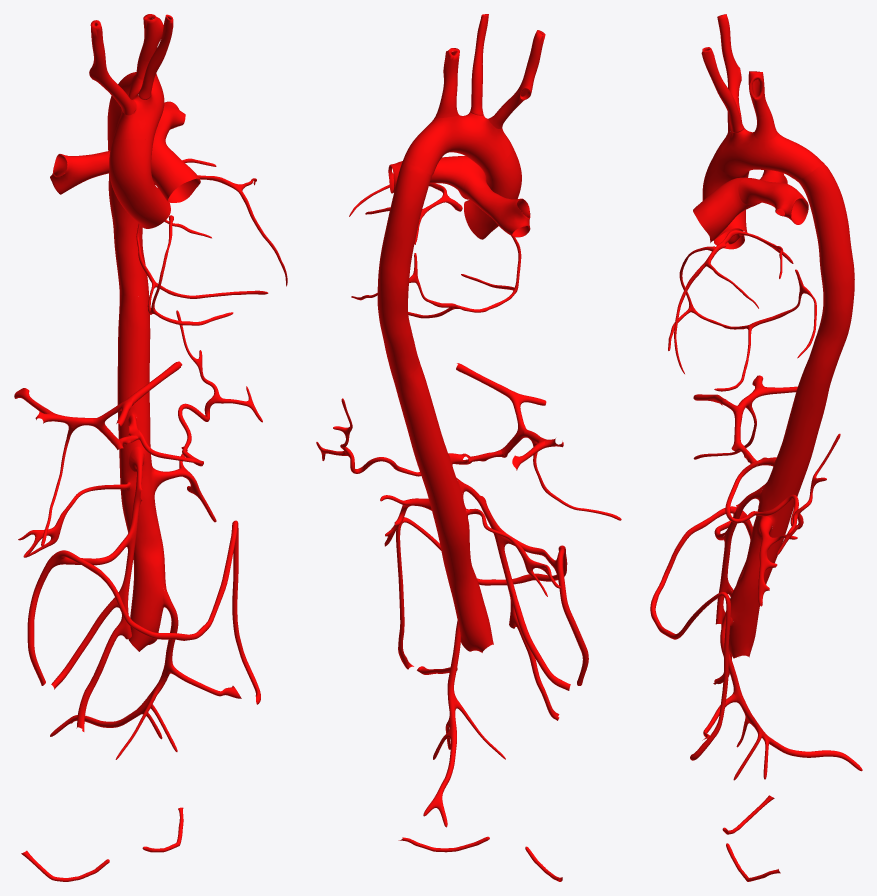
The model's file is female-arterial.glb.
The picture shows the model from 3 angles, left to right: view 1: azimuth 30°, elevation 25°; view 2: azimuth 150°, elevation 25°; view 3: azimuth 270°, elevation 25°; orthographic projection. The views are drawn at different scales.
Visible parts, largest first — view 1: VH_F_descending_aorta_b, VH_F_marginal_artery_of_Drummond, VH_F_ascending_aorta, VH_F_descending_aorta_a, VH_F_aortic_arch, VH_F_pulmonary_trunk, VH_F_splenic_artery, VH_F_pulmonary_artery_R, VH_F_superior_mesenteric_artery, VH_F_brachiocephalic_artery_b, VH_F_right_renal_artery, VH_F_inferior_mesenteric_artery (+10 smaller); view 2: VH_F_descending_aorta_b, VH_F_descending_aorta_a, VH_F_aortic_arch, VH_F_marginal_artery_of_Drummond, VH_F_pulmonary_artery_R, VH_F_ascending_aorta, VH_F_superior_mesenteric_artery, VH_F_brachiocephalic_artery_b, VH_F_pulmonary_artery_L, VH_F_splenic_artery, VH_F_inferior_mesenteric_artery, VH_F_left_common_carotid_artery_b (+7 smaller); view 3: VH_F_descending_aorta_b, VH_F_descending_aorta_a, VH_F_aortic_arch, VH_F_marginal_artery_of_Drummond, VH_F_pulmonary_artery_L, VH_F_pulmonary_trunk, VH_F_splenic_artery, VH_F_ascending_aorta, VH_F_superior_mesenteric_artery, VH_F_brachiocephalic_artery_b, VH_F_left_renal_artery, VH_F_right_coronary_artery (+6 smaller).
Part boxes in pixels (x1,y1,x2,y2): VH_F_descending_aorta_b: (117,295,166,651); VH_F_marginal_artery_of_Drummond: (27,520,260,704); VH_F_ascending_aorta: (109,139,170,228); VH_F_descending_aorta_a: (107,95,148,296); VH_F_aortic_arch: (112,72,164,142); VH_F_pulmonary_trunk: (151,135,200,202); VH_F_splenic_artery: (139,310,262,466); VH_F_pulmonary_artery_R: (50,150,110,194); VH_F_superior_mesenteric_artery: (116,446,144,639); VH_F_brachiocephalic_artery_b: (89,20,124,99); VH_F_right_renal_artery: (18,482,130,557); VH_F_inferior_mesenteric_artery: (135,589,178,715); VH_F_descending_aorta_b: (391,363,493,652); VH_F_descending_aorta_a: (377,158,431,377); VH_F_aortic_arch: (404,112,512,175); VH_F_marginal_artery_of_Drummond: (396,517,588,685); VH_F_pulmonary_artery_R: (463,171,530,237); VH_F_ascending_aorta: (464,146,521,239); VH_F_superior_mesenteric_artery: (456,477,517,628); VH_F_brachiocephalic_artery_b: (502,30,545,114); VH_F_pulmonary_artery_L: (388,156,462,193); VH_F_splenic_artery: (316,398,471,476); VH_F_inferior_mesenteric_artery: (447,620,460,737); VH_F_left_common_carotid_artery_b: (471,14,488,95); VH_F_descending_aorta_b: (728,369,831,658); VH_F_descending_aorta_a: (797,163,854,383); VH_F_aortic_arch: (715,128,823,180); VH_F_marginal_artery_of_Drummond: (650,506,752,760); VH_F_pulmonary_artery_L: (738,178,808,224); VH_F_pulmonary_trunk: (693,177,760,240); VH_F_splenic_artery: (725,433,840,555); VH_F_ascending_aorta: (702,153,749,249); VH_F_superior_mesenteric_artery: (715,484,765,624); VH_F_brachiocephalic_artery_b: (717,14,741,105); VH_F_left_renal_artery: (758,516,797,606); VH_F_right_coronary_artery: (679,246,803,329).
Bounding box in the file's own units: 0.1886 × 0.5869 × 0.1366.
